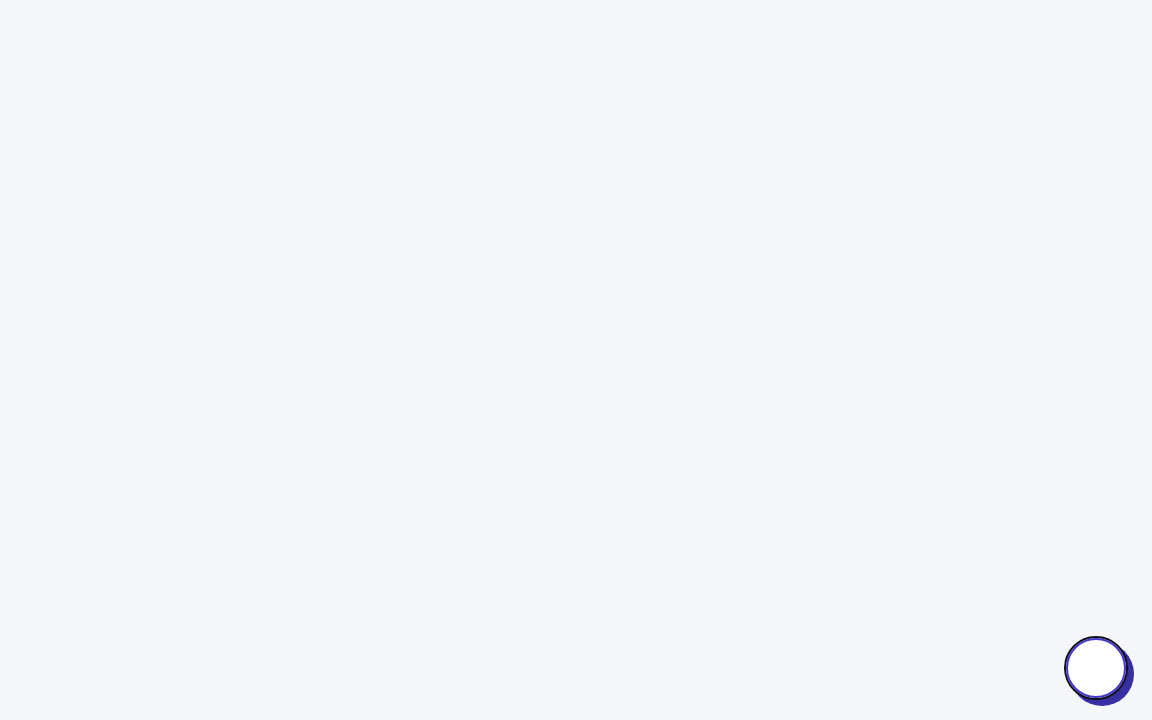
Test: Wise › answers a typed question and links to where the answer came from
Click the button named "Ask Wise, your assistant": (1096,668) left=1064, top=636, right=1128, bottom=700
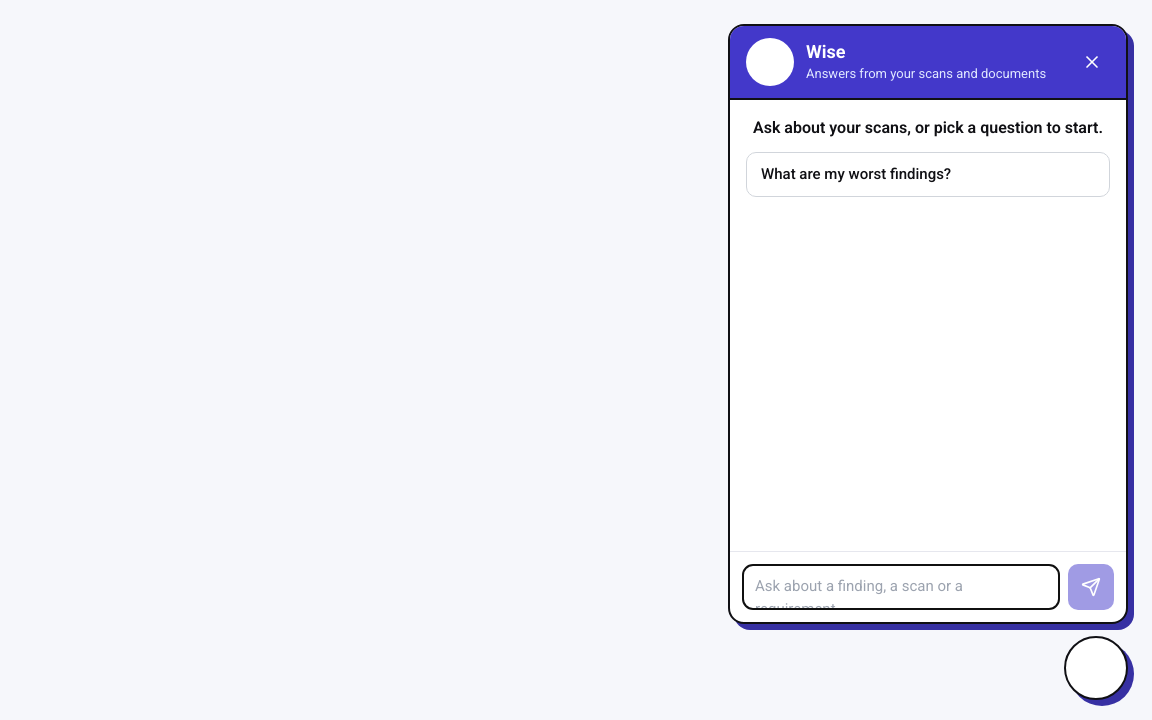
In the text box named "Your question for Wise": (901,587) left=742, top=564, right=1060, bottom=610, type "How do I fix it?"
Then press Enter
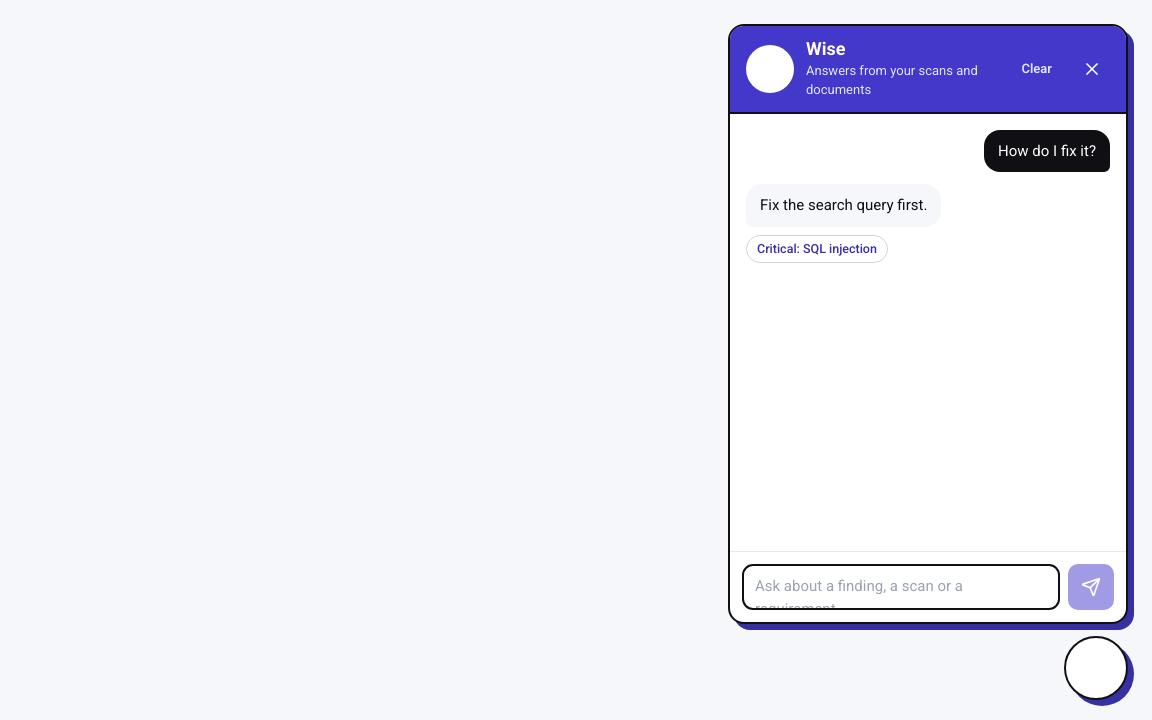
Result: the text box named "Your question for Wise" is empty at left=742, top=564, right=1060, bottom=610
Result: the text "Fix the search query first." is shown at left=746, top=184, right=941, bottom=226
Result: the text "How do I fix it?" is shown at left=984, top=130, right=1110, bottom=172
